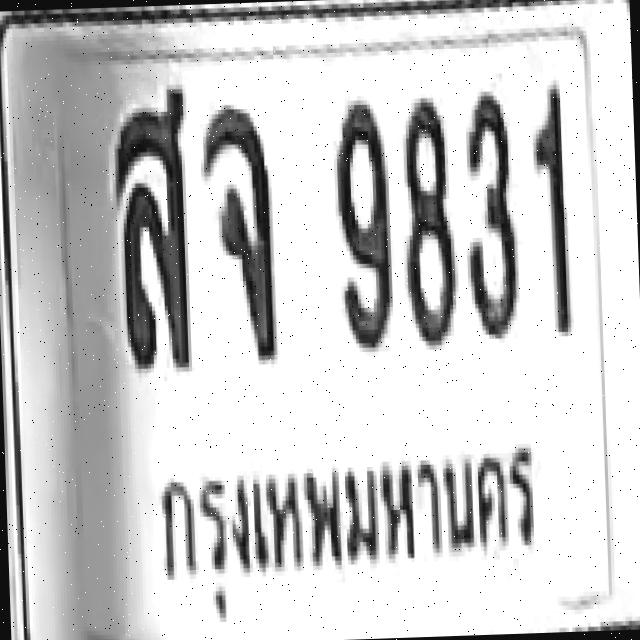1: (528, 82, 572, 335)
17ChorChan: (198, 101, 280, 364)
3: (462, 88, 520, 341)
49SorSuea: (110, 84, 193, 373)
8: (398, 92, 457, 346)
9: (330, 95, 396, 352)
Bangkok: (121, 431, 564, 628)
